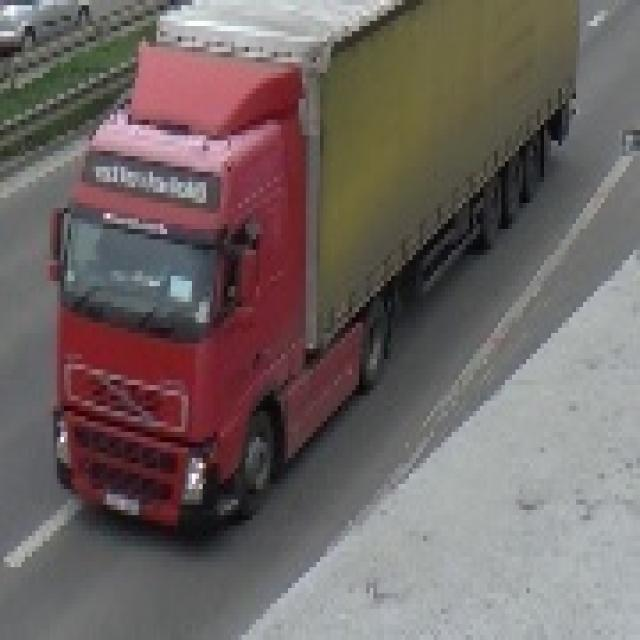TRUCK: (44, 0, 582, 552)
